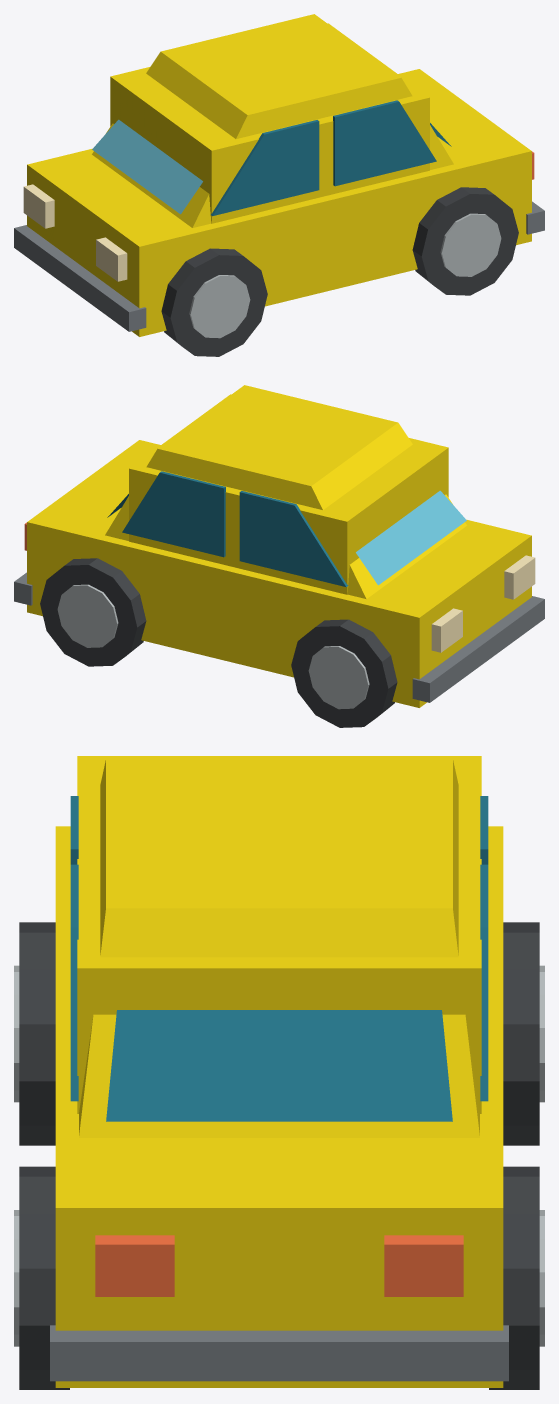
Rendered from Car_Yellow.glb.
The picture shows the model from 3 angles, top to bottom: view 1: azimuth 30°, elevation 25°; view 2: azimuth 150°, elevation 25°; view 3: azimuth 270°, elevation 25°; orthographic projection. The views are drawn at different scales.
Parts seen in each view (by area): view 1: Car_Yellow; view 2: Car_Yellow; view 3: Car_Yellow.
Boxes of the visible parts, x1,y1,x2,y2 form: Car_Yellow: (14,14,544,356); Car_Yellow: (14,385,544,727); Car_Yellow: (14,756,544,1389).
Size of the model in its own units: 2.66 by 1.3 by 1.47.
